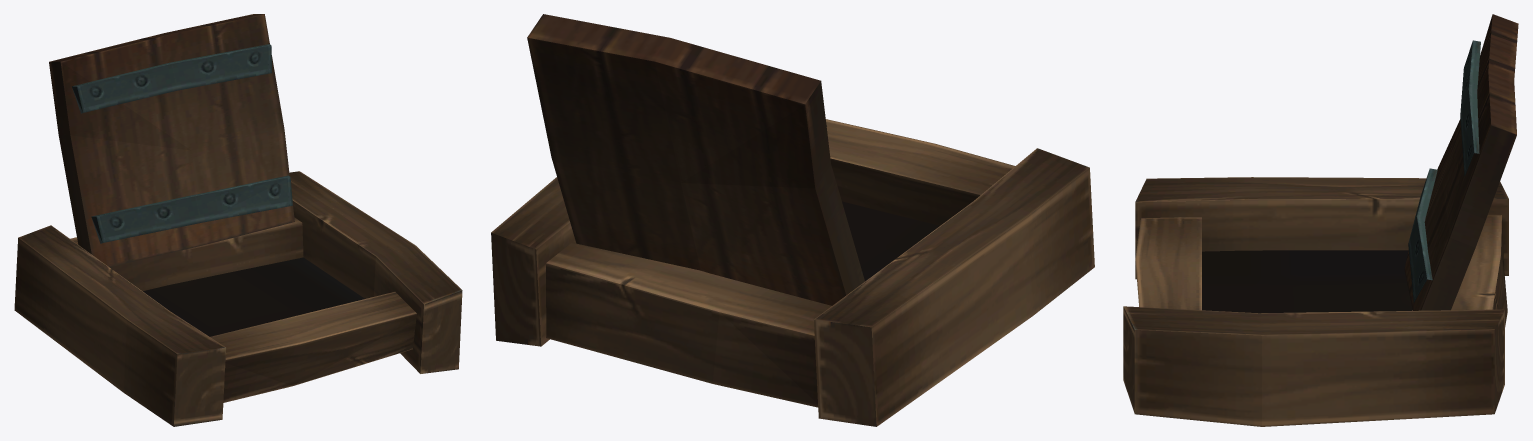
File: bandit_trapdoor_01.fbx
3 views of the same model, side by side, from view 1: azimuth 30°, elevation 25°; view 2: azimuth 150°, elevation 25°; view 3: azimuth 270°, elevation 25° (orthographic). The views are drawn at different scales.
Parts seen in each view (by area): view 1: obj1.150; view 2: obj1.150; view 3: obj1.150.
Part boxes in pixels (<box>): obj1.150: <box>14,14,462,426</box>; obj1.150: <box>491,14,1094,426</box>; obj1.150: <box>1123,14,1518,426</box>.
Bounding box in the file's own units: 1.84 × 1.51 × 1.92.
